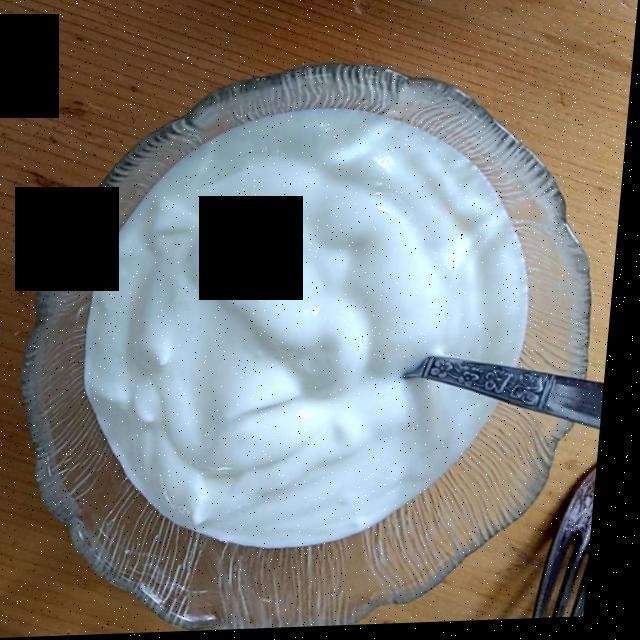yogurt: (95, 113, 505, 549)
